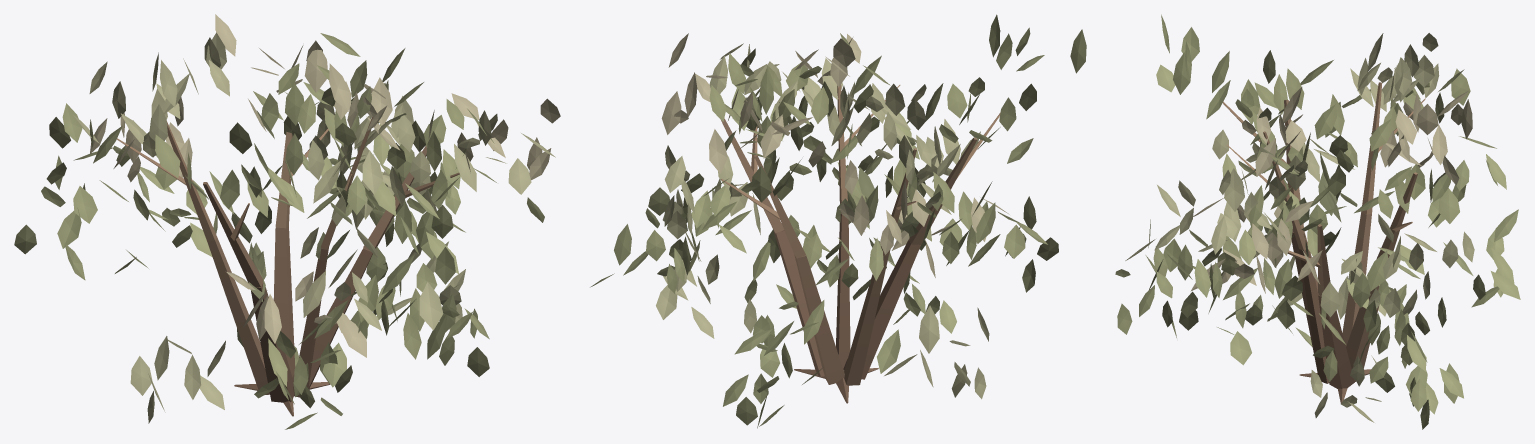
File: bush_3d_03.glb
3 views of the same model, side by side, from view 1: azimuth 30°, elevation 25°; view 2: azimuth 150°, elevation 25°; view 3: azimuth 270°, elevation 25° (orthographic). The views are drawn at different scales.
Parts seen in each view (by area): view 1: bush_3d_03_foliage, bush_3d_03_wood; view 2: bush_3d_03_foliage, bush_3d_03_wood; view 3: bush_3d_03_foliage, bush_3d_03_wood.
Boxes of the visible parts, bbox=[...] form: bush_3d_03_foliage: bbox=[14, 14, 560, 429]; bush_3d_03_wood: bbox=[116, 112, 459, 416]; bush_3d_03_foliage: bbox=[590, 14, 1086, 428]; bush_3d_03_wood: bbox=[721, 85, 1000, 403]; bush_3d_03_foliage: bbox=[1115, 14, 1520, 429]; bush_3d_03_wood: bbox=[1223, 82, 1425, 403].
Bounding box in the file's own units: 2.6 × 2 × 2.2.
